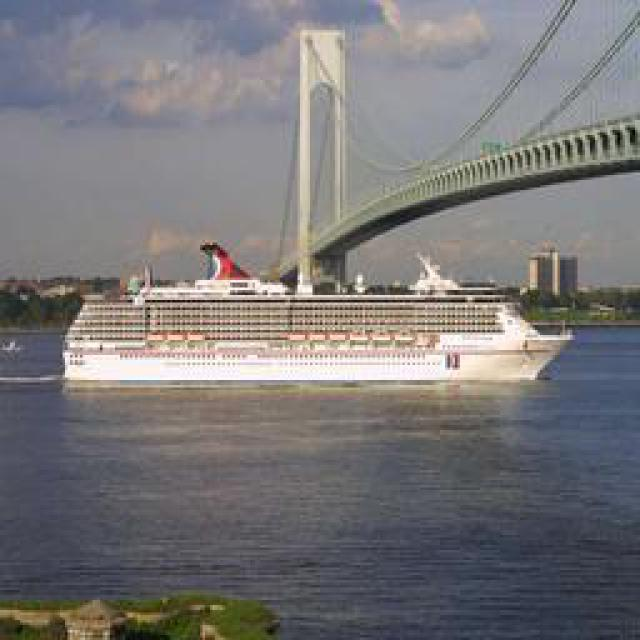Ship: (58, 290, 576, 385)
